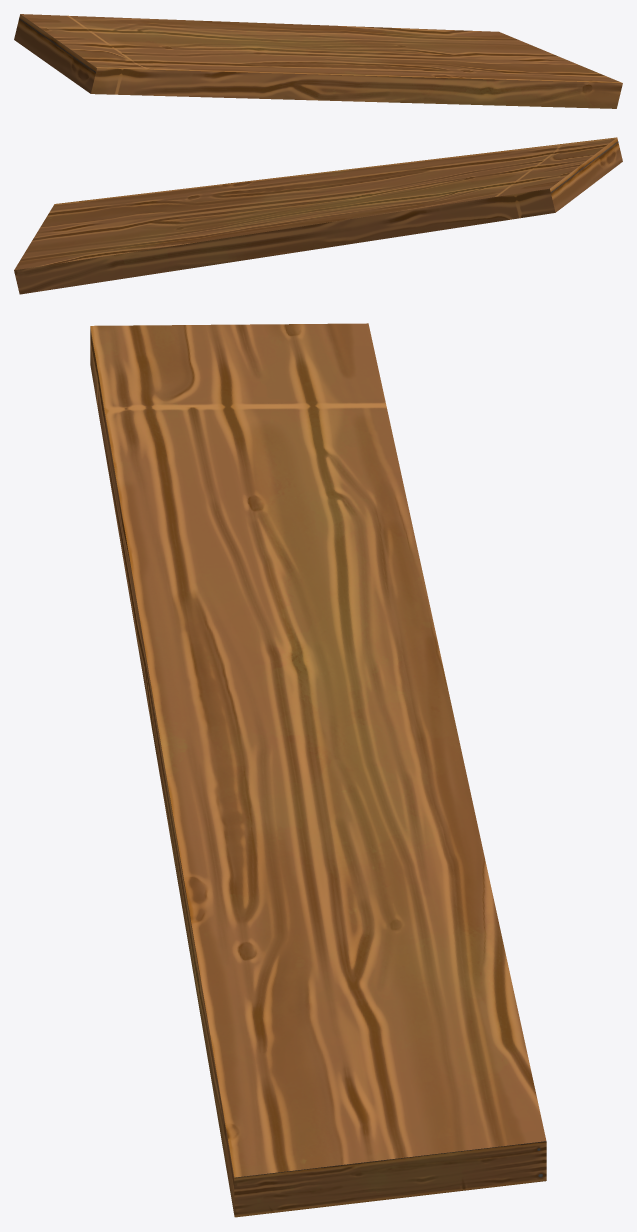
The picture shows the model from 3 angles, top to bottom: view 1: azimuth 30°, elevation 25°; view 2: azimuth 150°, elevation 25°; view 3: azimuth 270°, elevation 25°; orthographic projection. The views are drawn at different scales.
Visible parts, largest first — view 1: Cube.1158; view 2: Cube.1158; view 3: Cube.1158.
Part boxes in pixels (x1,y1,x2,y2): Cube.1158: (14,14,622,108); Cube.1158: (14,137,622,294); Cube.1158: (90,323,546,1217).
Size of the model in its own units: 237 by 81.17 by 87.54.
Materials: 1 (1 with a texture image).
